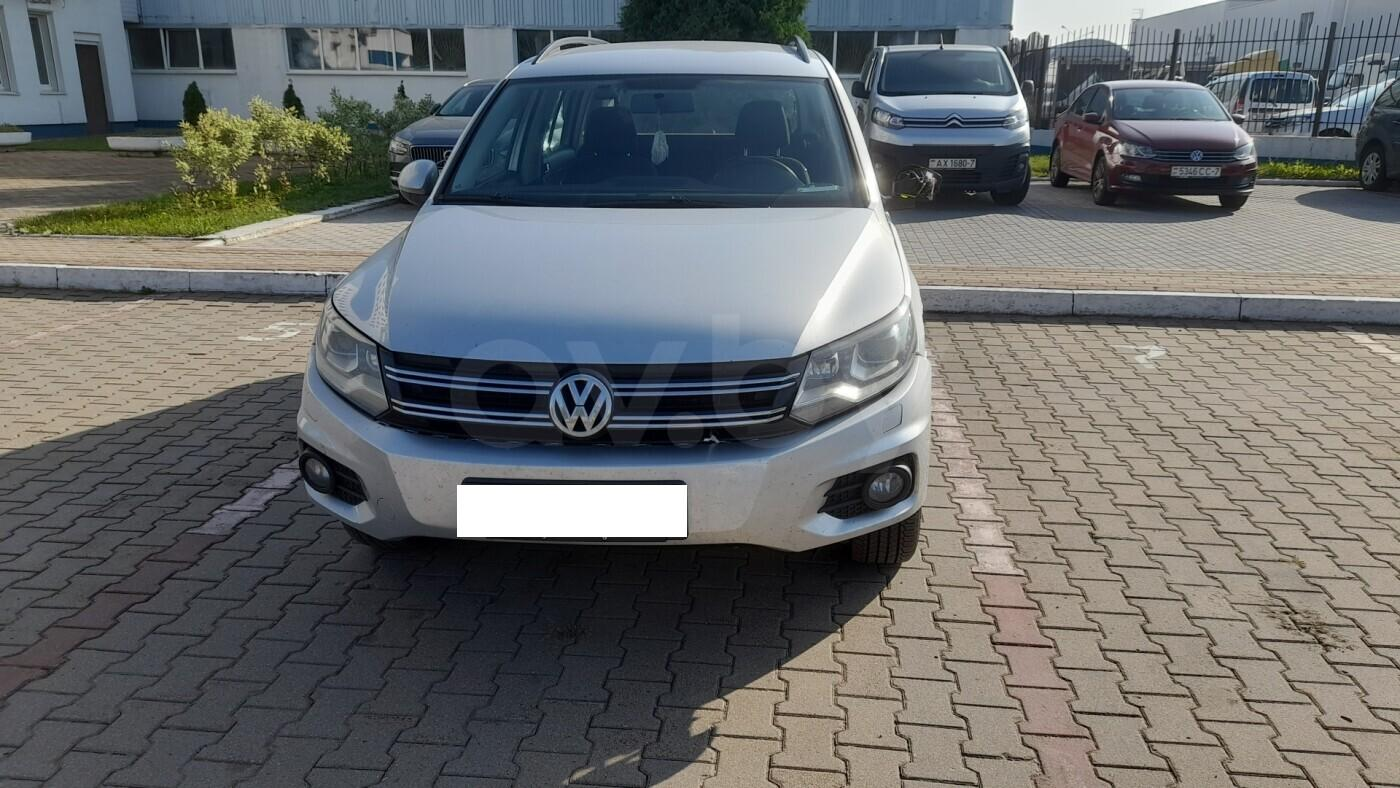Tiguan_2011-2018: (286, 36, 945, 587)
